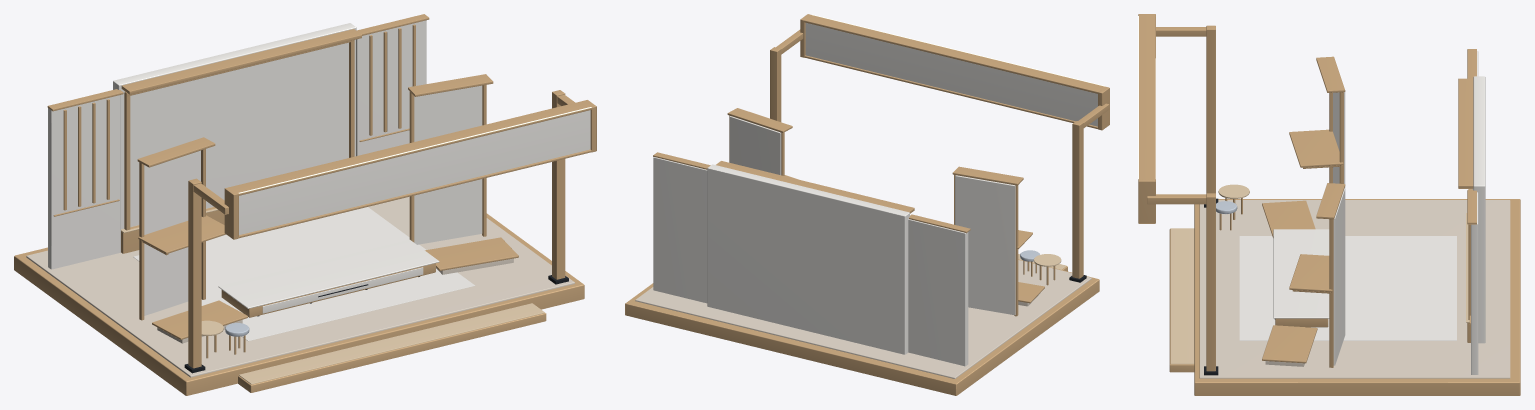
File: nordic_living_v3.glb
3 views of the same model, side by side, from view 1: azimuth 30°, elevation 25°; view 2: azimuth 150°, elevation 25°; view 3: azimuth 270°, elevation 25° (orthographic). The views are drawn at different scales.
Visible parts, largest first — view 1: Nordic_Living_Booth_v3; view 2: Nordic_Living_Booth_v3; view 3: Nordic_Living_Booth_v3.
Boxes of the visible parts, x1,y1,x2,y2 form: Nordic_Living_Booth_v3: [14, 14, 596, 395]; Nordic_Living_Booth_v3: [625, 14, 1109, 395]; Nordic_Living_Booth_v3: [1138, 14, 1520, 395].
Size of the model in its own units: 7.2 by 3.78 by 6.33.
